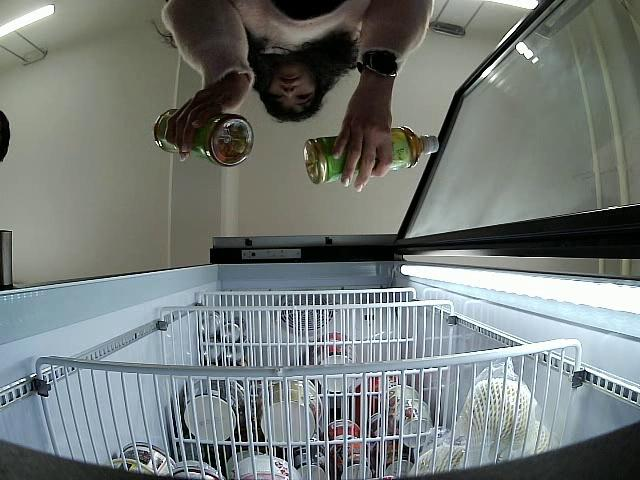00_hand: (165, 83, 250, 164), (331, 90, 394, 190)
19_17cha: (303, 125, 440, 188), (152, 109, 253, 167)
